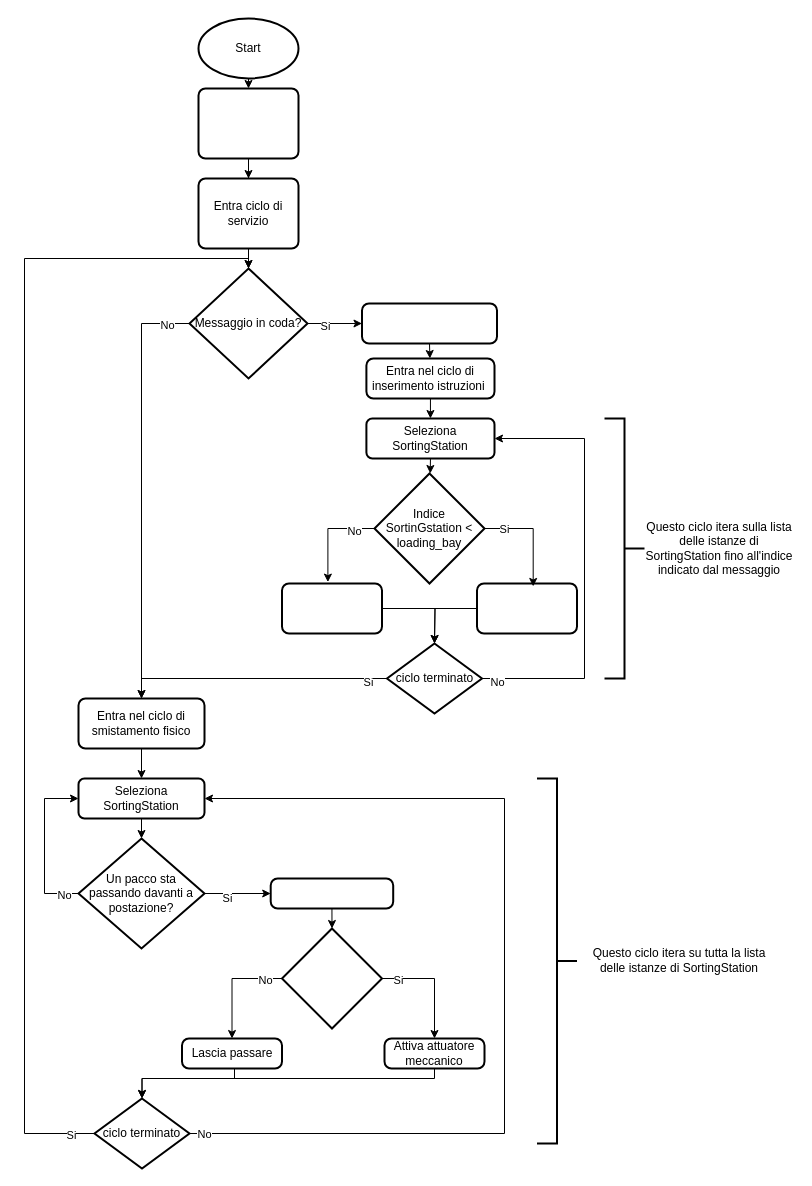
Some shapes in this 812 by 1186 pixel diagram are drawn without their labels. The centre of each missing label's shape, as x and y in pixels:
"Crea lista istanze SortingStation" belongs at (248,123).
"Estrazione istruzione" belongs at (331,893).
"Estrazione messaggio" belongs at (429,323).
"Iserisce false nella baia di carico fisica" belongs at (527,608).
"Iserisce True nella baia di carico fisica" belongs at (331,608).
"Istruzione è positiva?" belongs at (331,978).
